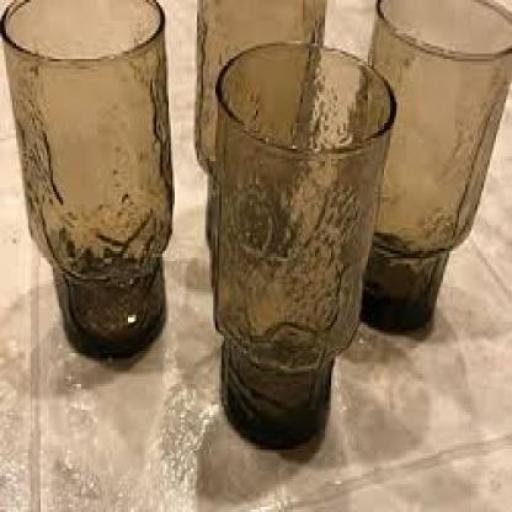glass: (214, 38, 396, 448), (0, 0, 171, 364), (357, 0, 511, 331), (194, 0, 322, 249)
